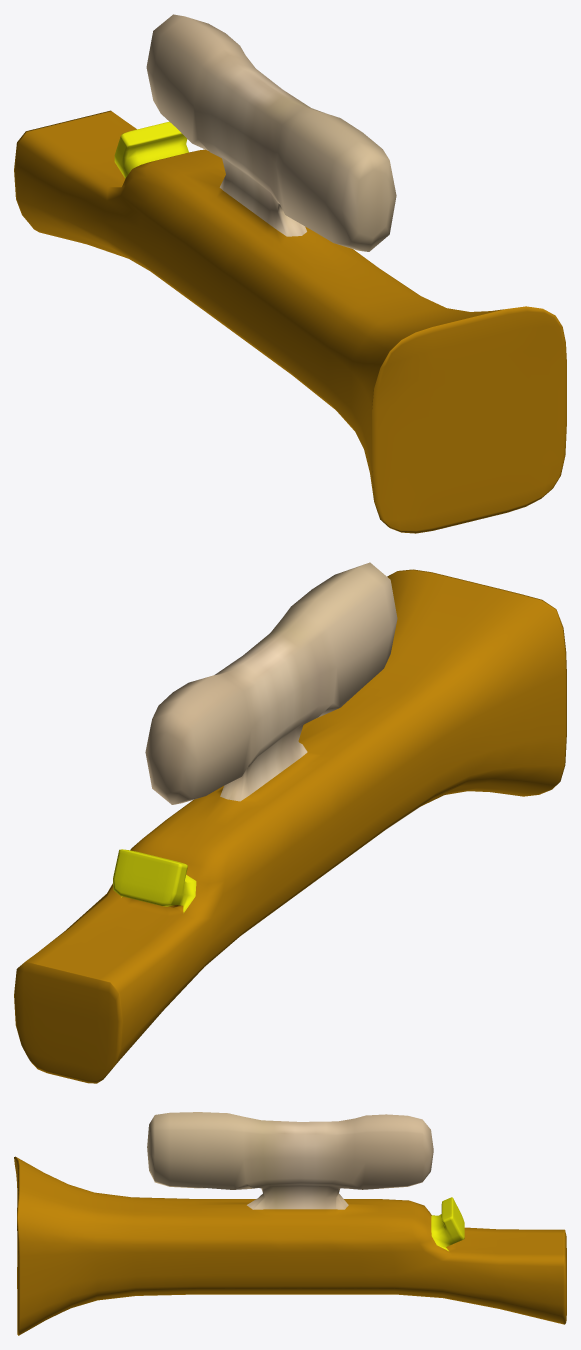
Rendered from peanutshotgun.fbx.
3 renders of one model, top to bottom at view 1: azimuth 30°, elevation 25°; view 2: azimuth 150°, elevation 25°; view 3: azimuth 270°, elevation 25°, orthographic. The views are drawn at different scales.
Visible parts, largest first — view 1: pCube1; view 2: pCube1; view 3: pCube1.
Boxes of the visible parts, bbox=[...] form: pCube1: bbox=[14, 14, 566, 533]; pCube1: bbox=[14, 562, 566, 1083]; pCube1: bbox=[14, 1112, 566, 1335].
Size of the model in its own units: 0.6807 by 1 by 2.46.
3 materials, 1 textured.
